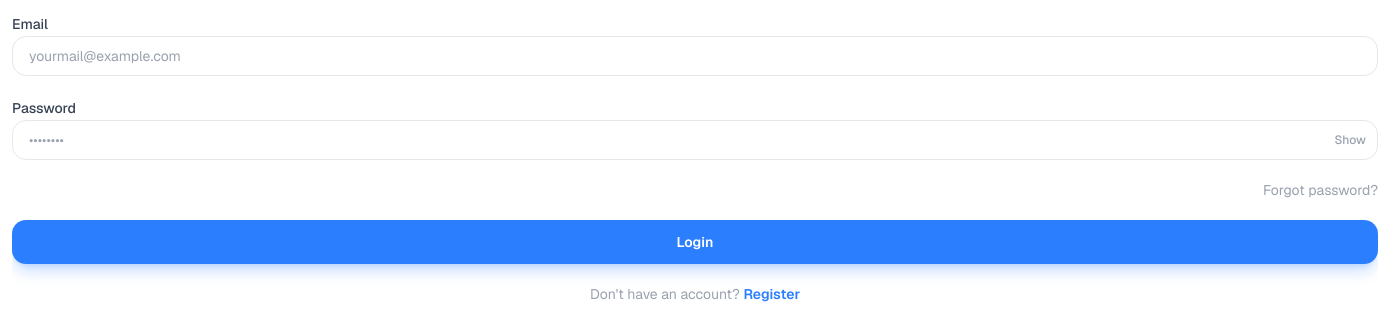
LoginForm — Unit Tests › TC-LOGIN-09: login button is disabled and shows loading text while submitting
This screenshot has width=1390, height=319.
Type "user@test.com" into the field labelled "Email".
click(695, 56); type("user@test.com")  # box [12,36,1378,76]
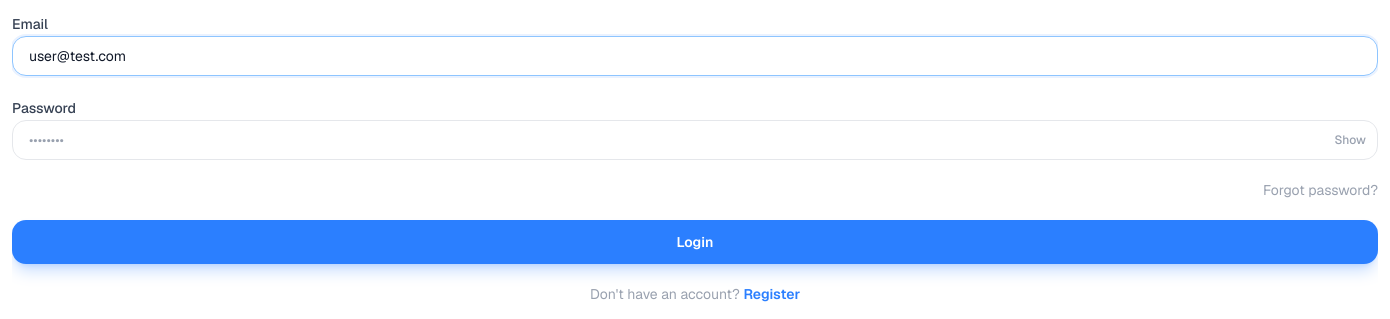
Type "Password1!" into the password field with placeholder "••••••••".
click(695, 140); type("Password1!")  # box [12,120,1378,160]
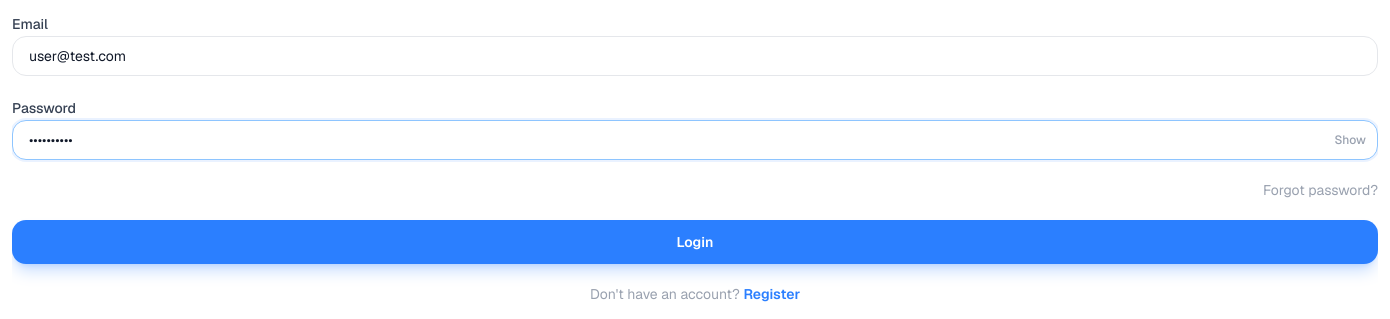
Click the button "Login".
click(695, 242)  # box [12,220,1378,264]
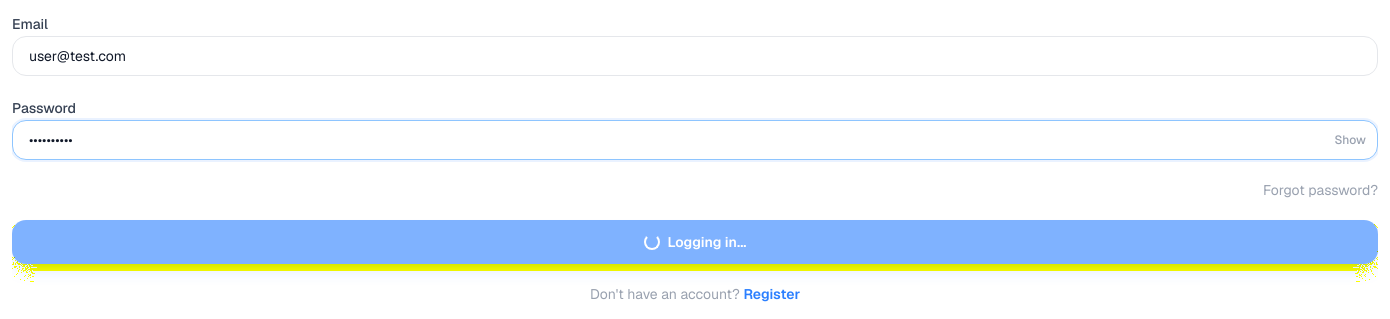
Expected: the button "Logging in..." is disabled, [12,220,1378,264]
